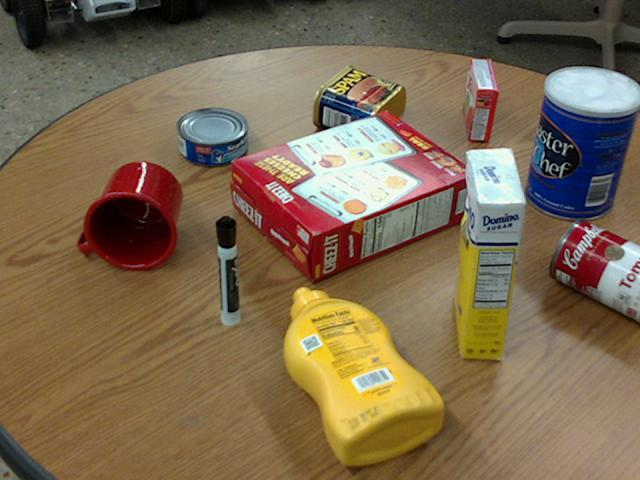cracker_box: (230, 111, 473, 281)
gelatin_box: (463, 59, 497, 140)
large_marker: (215, 214, 238, 325)
master_chef_can: (525, 67, 639, 220)
mug: (77, 160, 180, 269)
mustard_bottle: (283, 287, 443, 464)
potted_meat_can: (312, 65, 405, 140)
sugar_box: (456, 147, 524, 358)
tomato_soup_can: (549, 217, 639, 319)
tuna_fish_can: (176, 106, 247, 164)
